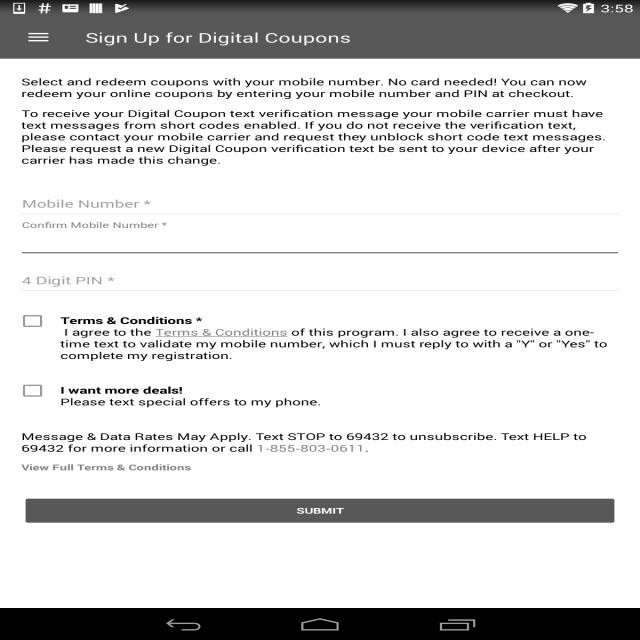Button: (21, 494, 619, 526)
CheckBox: (16, 310, 50, 332), (16, 380, 50, 401)
EditText: (18, 182, 622, 220), (18, 221, 622, 258), (18, 259, 622, 296)
ImageButton: (9, 16, 68, 59)
TextView: (21, 107, 619, 167), (60, 314, 619, 362), (21, 430, 619, 455), (21, 76, 619, 100), (60, 384, 322, 408), (85, 28, 351, 46), (21, 462, 191, 473)
